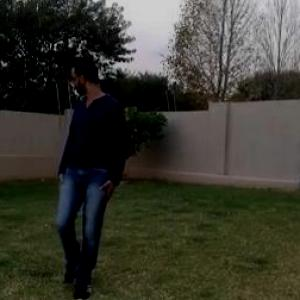follow: (57, 54, 116, 284)
